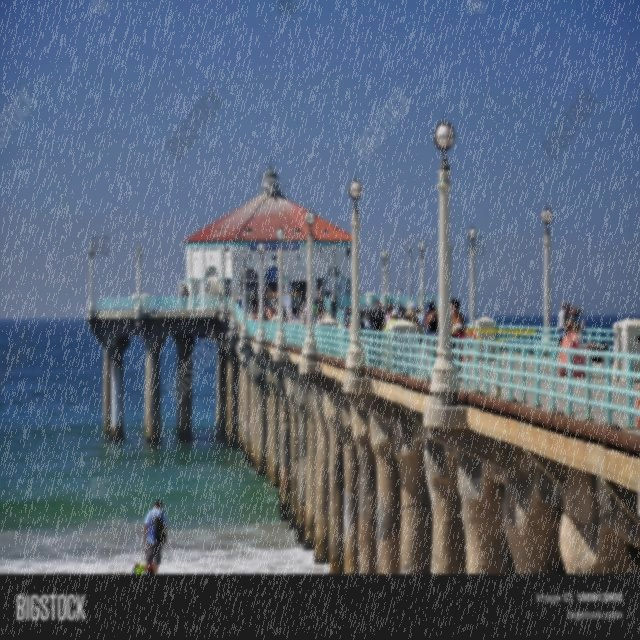pessoa: (142, 498, 168, 574), (446, 298, 466, 382), (570, 322, 610, 350), (557, 300, 575, 358), (130, 547, 158, 575), (426, 302, 438, 358), (425, 301, 439, 349), (404, 302, 422, 330), (372, 298, 386, 332), (384, 308, 401, 334), (360, 302, 370, 346), (316, 294, 326, 328), (382, 304, 394, 332), (423, 302, 432, 336), (343, 305, 351, 343), (250, 288, 260, 318), (415, 306, 425, 336), (180, 284, 190, 311), (264, 302, 276, 322), (289, 306, 301, 325), (330, 294, 338, 322), (396, 285, 404, 313), (262, 288, 268, 322), (301, 302, 308, 326), (416, 288, 427, 302), (566, 319, 575, 336), (273, 290, 279, 314), (314, 304, 320, 326), (282, 304, 288, 324), (347, 322, 352, 344), (316, 288, 322, 305), (396, 303, 404, 314), (400, 306, 406, 320), (218, 290, 223, 306), (304, 308, 308, 328), (380, 304, 386, 316), (253, 316, 260, 321), (312, 310, 316, 314)
